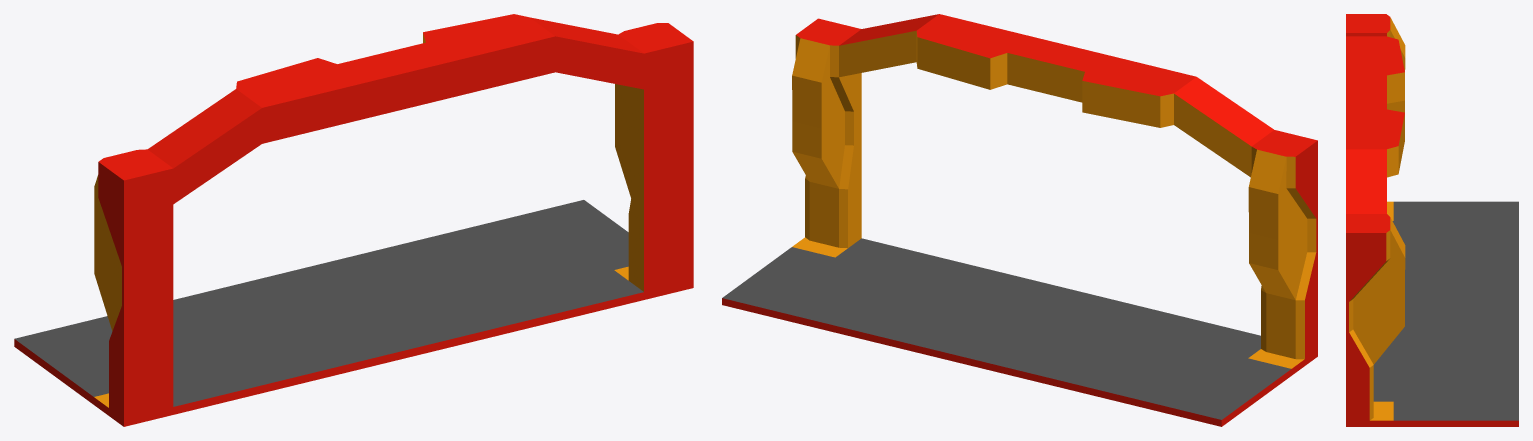
3 renders of one model, left to right at view 1: azimuth 30°, elevation 25°; view 2: azimuth 150°, elevation 25°; view 3: azimuth 270°, elevation 25°, orthographic. The views are drawn at different scales.
Parts seen in each view (by area): view 1: S20; view 2: S20; view 3: S20.
Part boxes in pixels (<box>): S20: <box>14,14,693,426</box>; S20: <box>722,14,1317,426</box>; S20: <box>1346,14,1518,426</box>.
Size of the model in its own units: 600 by 287 by 200.
